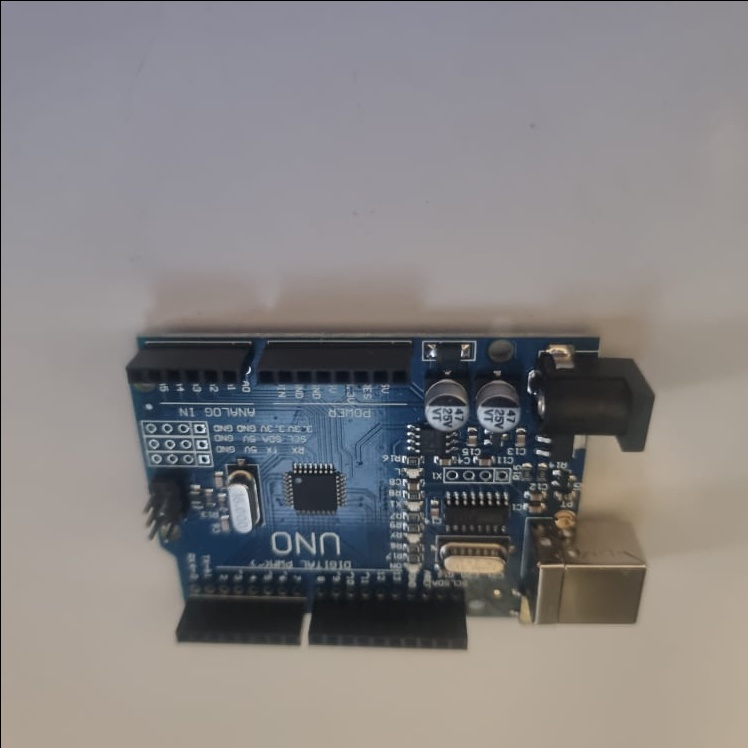UNO R3: (121, 331, 648, 652)
